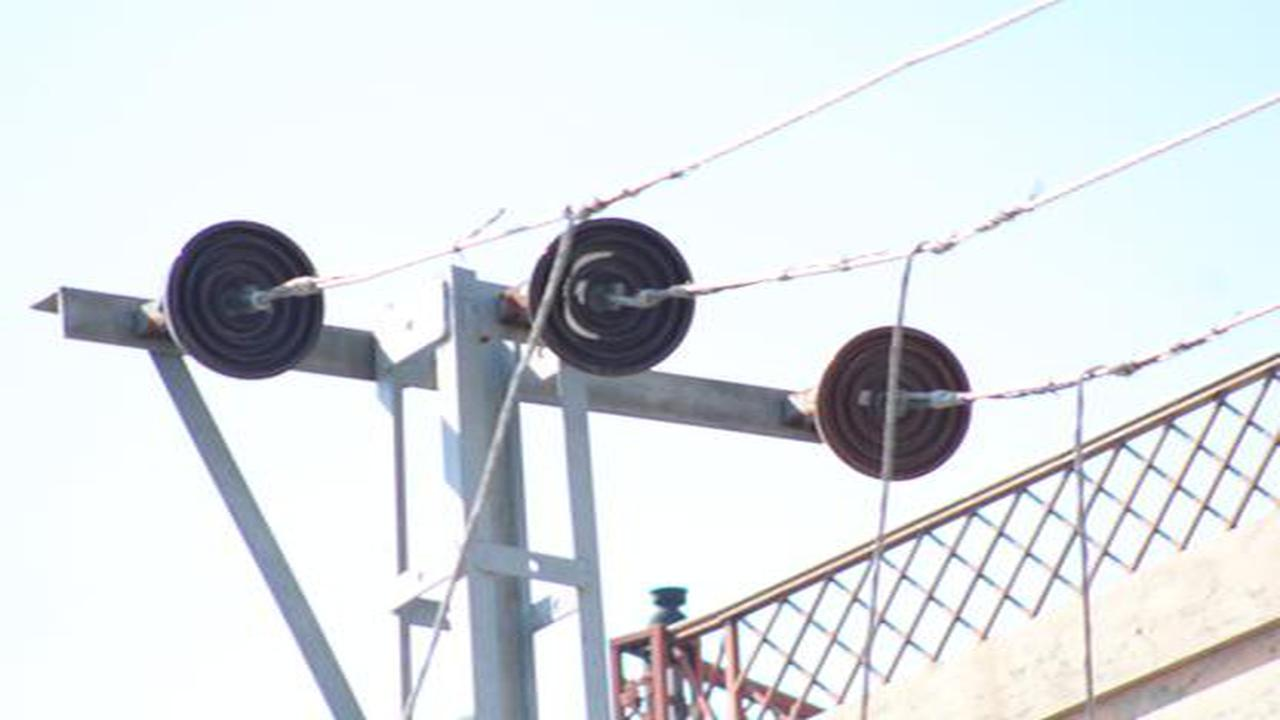insulator_disc: (528, 220, 699, 387), (166, 218, 329, 383), (814, 330, 969, 484)
